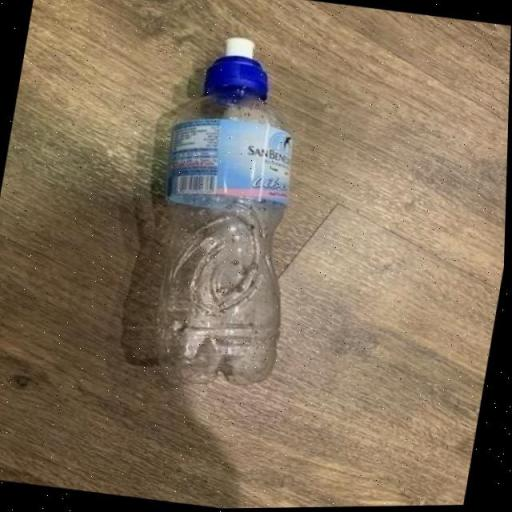plastic: (128, 28, 330, 390)
